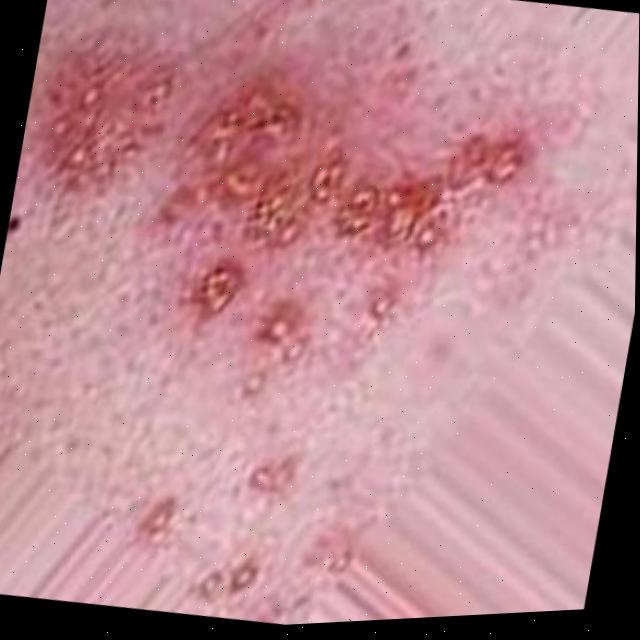Shingles: (154, 58, 554, 381), (29, 25, 187, 210)
